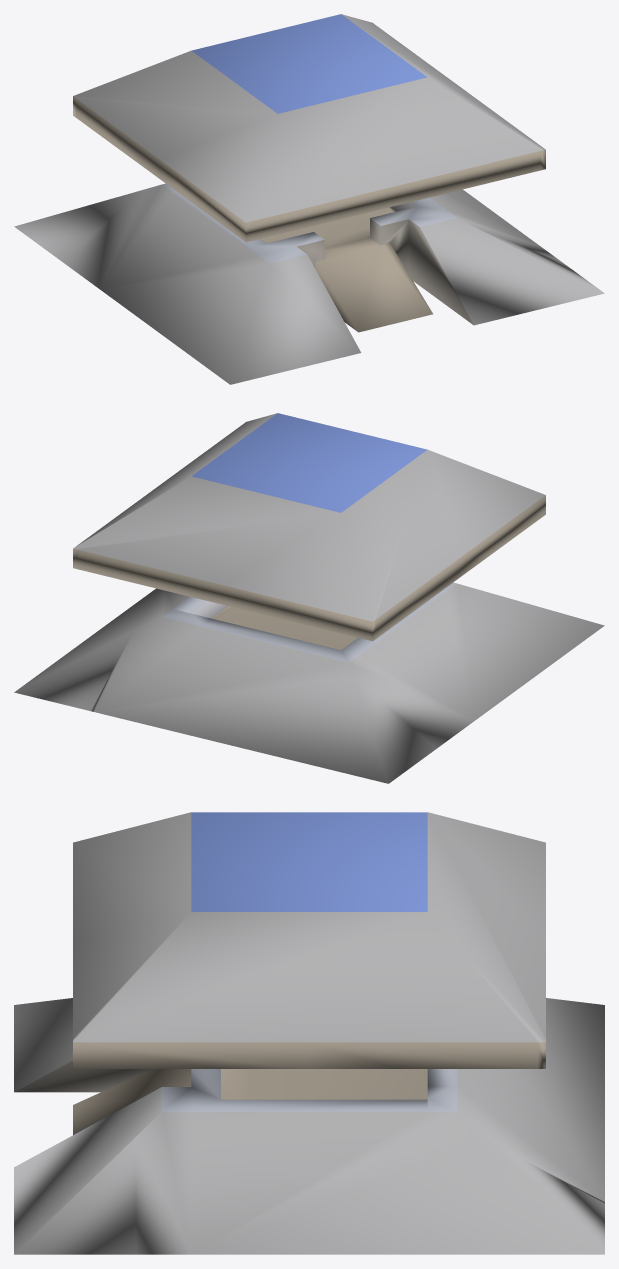
File: bunker4.glb
3 views of the same model, one above another, from view 1: azimuth 30°, elevation 25°; view 2: azimuth 150°, elevation 25°; view 3: azimuth 270°, elevation 25° (orthographic). The views are drawn at different scales.
Visible parts, largest first — view 1: bunker4; view 2: bunker4; view 3: bunker4.
Boxes of the visible parts, x1,y1,x2,y2 form: bunker4: [14, 14, 604, 384]; bunker4: [14, 413, 604, 783]; bunker4: [14, 812, 604, 1254].
Bounding box in the file's own units: 20 × 10 × 20.
